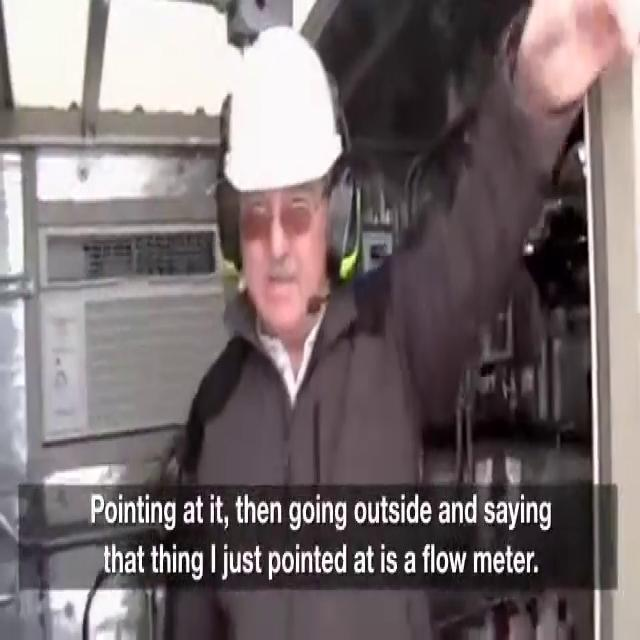earmuff: (322, 157, 366, 293), (210, 174, 244, 278)
glasses: (236, 195, 328, 251)
helmet: (220, 24, 346, 194)
